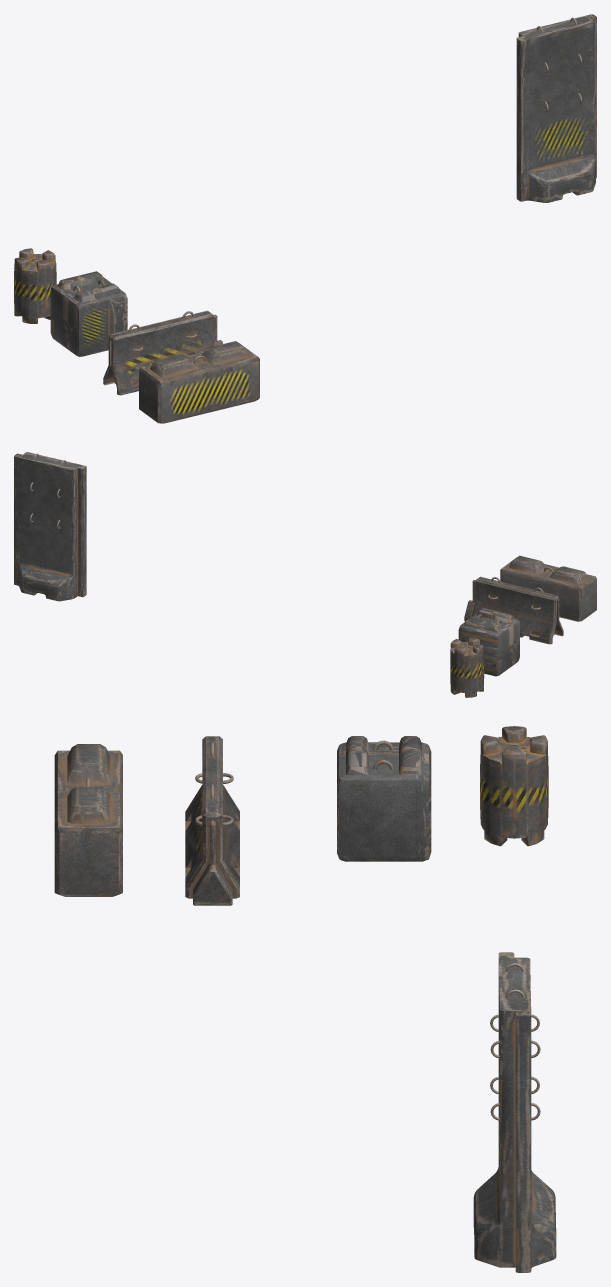
The model's file is Barrier_Large.FBX.
3 renders of one model, top to bottom at view 1: azimuth 30°, elevation 25°; view 2: azimuth 150°, elevation 25°; view 3: azimuth 270°, elevation 25°, orthographic. The views are drawn at different scales.
Parts seen in each view (by area): view 1: Box001, Box004, Box002, Box003, Cylinder001; view 2: Box001, Box003, Box004, Box002, Cylinder001; view 3: Box001, Box002, Box004, Cylinder001, Box003.
Part boxes in pixels (x1,y1,x2,y2): Box001: (516, 14, 596, 202); Box004: (139, 341, 259, 423); Box002: (50, 271, 127, 356); Box003: (103, 310, 222, 395); Cylinder001: (14, 248, 56, 323); Box001: (14, 452, 86, 601); Box003: (464, 576, 563, 644); Box004: (500, 555, 596, 621); Box002: (458, 608, 519, 676); Cylinder001: (450, 637, 484, 697); Box001: (473, 952, 556, 1272); Box002: (337, 736, 431, 861); Box004: (54, 744, 122, 896); Cylinder001: (480, 726, 548, 846); Box003: (185, 736, 239, 905).
Bounding box in the file's own units: 342 × 93.13 × 159.
